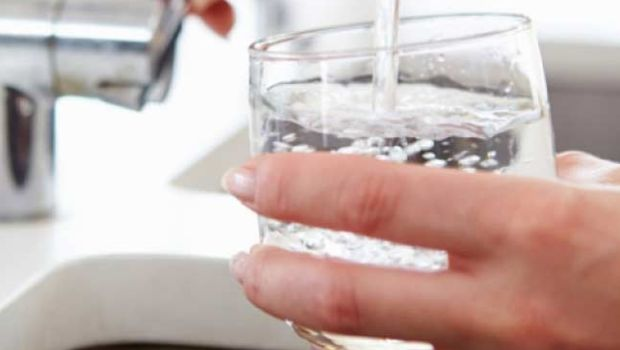glass of water: (284, 40, 547, 340)
